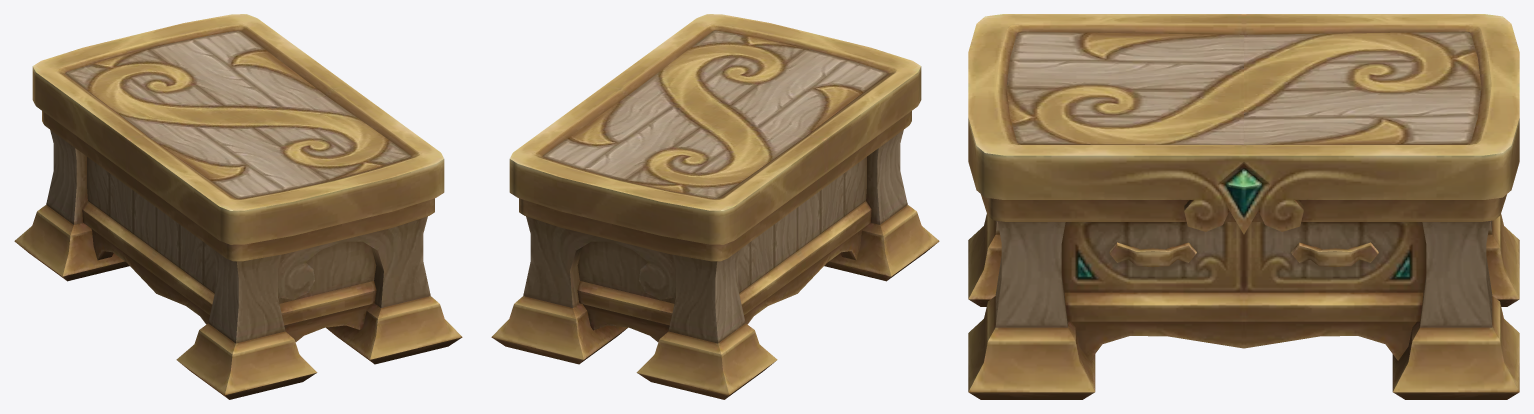
3 renders of one model, left to right at view 1: azimuth 30°, elevation 25°; view 2: azimuth 150°, elevation 25°; view 3: azimuth 270°, elevation 25°, orthographic. The views are drawn at different scales.
Size of the model in its own units: 1.3 by 0.9765 by 1.99.
Materials: 1 (1 with a texture image).
